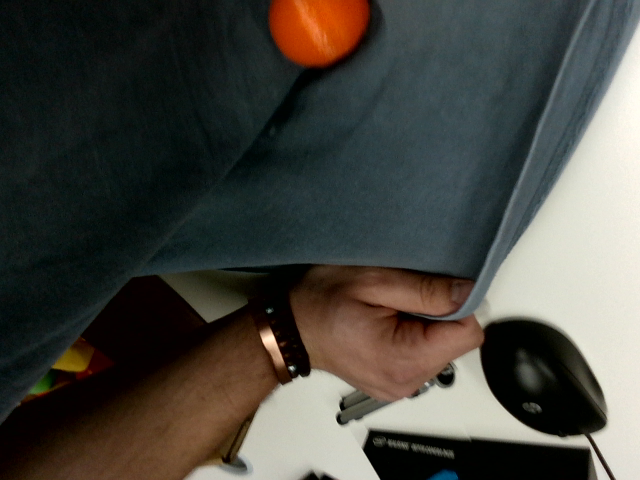orange: (269, 0, 369, 67)
